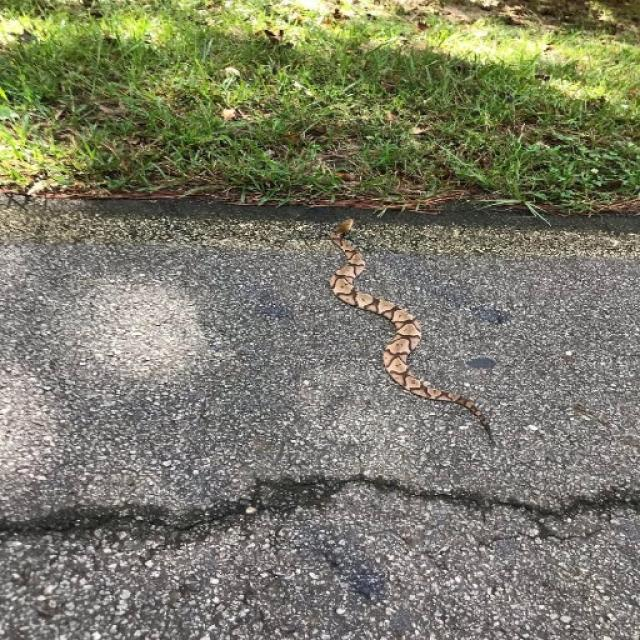snake: (320, 212, 502, 442)
